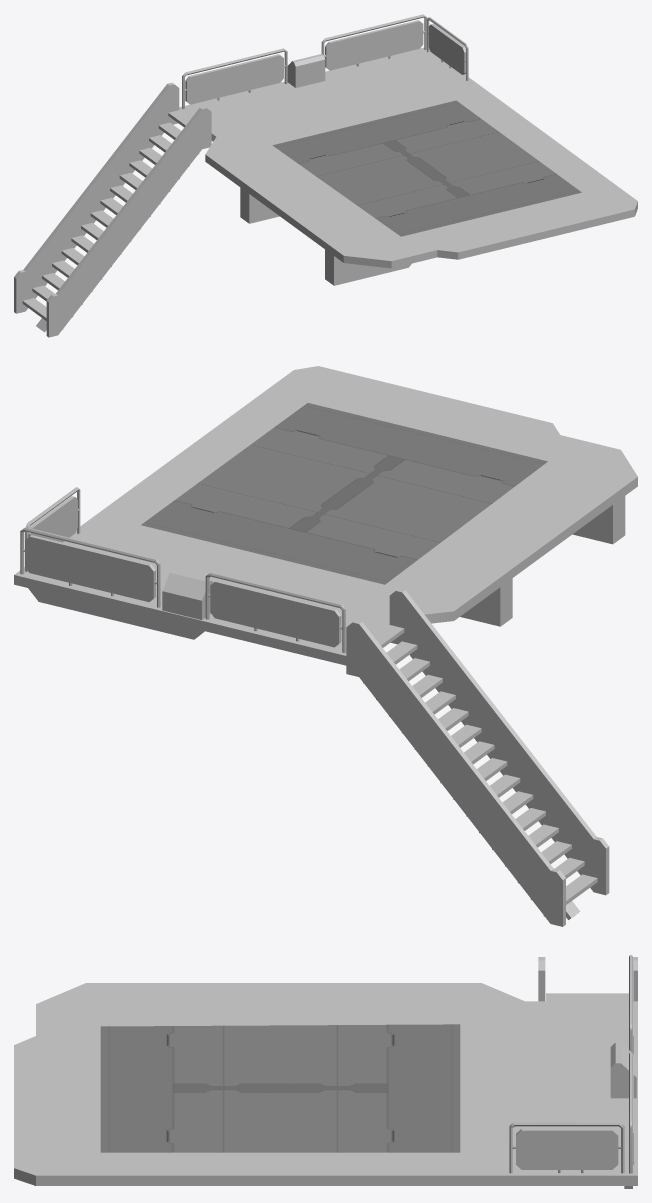
Rendered from SM_BuildingExtra_SecondFloor_1.fbx.
3 views of the same model, one above another, from view 1: azimuth 30°, elevation 25°; view 2: azimuth 150°, elevation 25°; view 3: azimuth 270°, elevation 25° (orthographic). The views are drawn at different scales.
Parts seen in each view (by area): view 1: SM_BuildingExtra_SecondFloor_1; view 2: SM_BuildingExtra_SecondFloor_1; view 3: SM_BuildingExtra_SecondFloor_1.
Boxes of the visible parts, x1=… form: SM_BuildingExtra_SecondFloor_1: x1=14, y1=14, x2=637, y2=337; SM_BuildingExtra_SecondFloor_1: x1=14, y1=366, x2=637, y2=926; SM_BuildingExtra_SecondFloor_1: x1=14, y1=955, x2=637, y2=1188.
Size of the model in its own units: 1183 by 567 by 1083.
